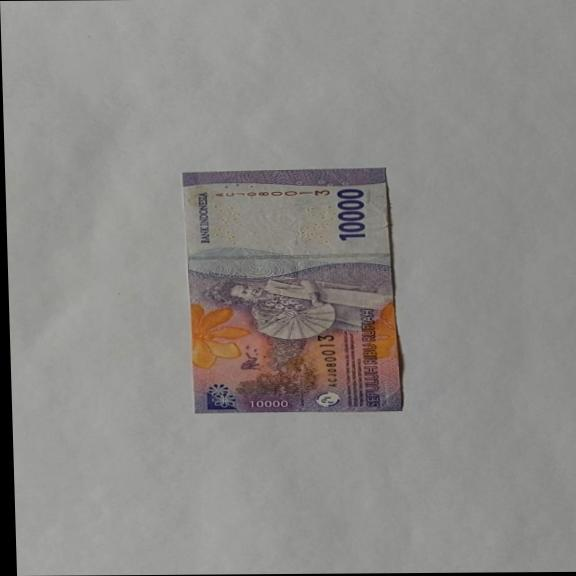Kertas: (180, 166, 403, 414), (334, 187, 367, 241)
